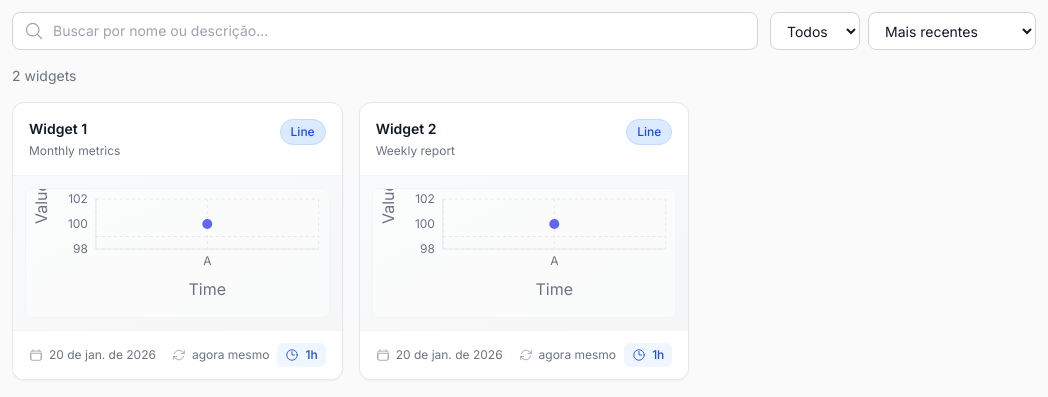
Test: WidgetList › Search Functionality › should filter widgets by description
In the field with placeholder "Buscar por nome ou descrição...": (385, 31) [12,12,758,50], type "monthly"
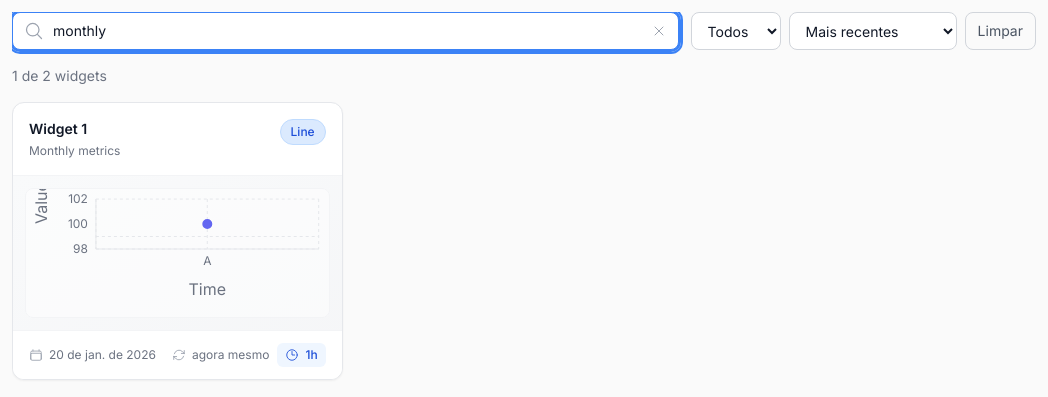
Expected: the heading "Widget 1" is shown, [29,120,87,137]
Now the heading "Widget 2" is gone
